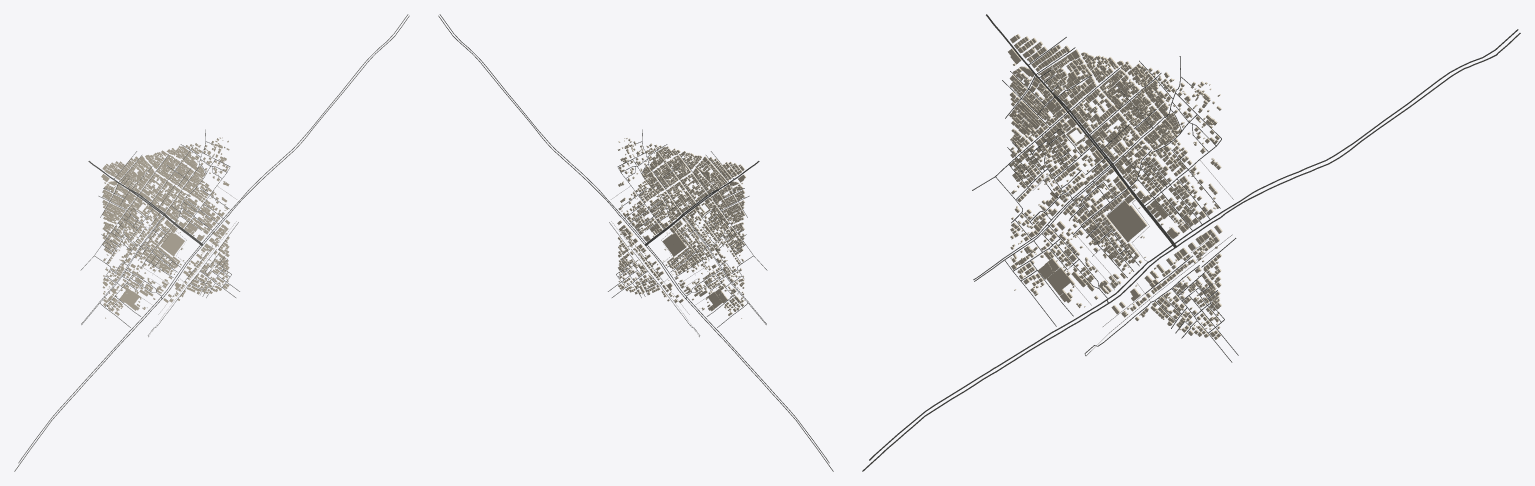
Rendered from historic-palestine-02_20_3439_3144.glb.
3 views of the same model, side by side, from view 1: azimuth 30°, elevation 25°; view 2: azimuth 150°, elevation 25°; view 3: azimuth 330°, elevation 25° (orthographic). The views are drawn at different scales.
Parts seen in each view (by area): view 1: Road صلاح الدين, Road صلاح الدين.001; view 2: Road صلاح الدين, Road صلاح الدين.001; view 3: Road صلاح الدين, Road صلاح الدين.001, Building_.106.
Boxes of the visible parts, box(x1,y1,x2,y2) form: Road صلاح الدين: box(14, 15, 409, 471); Road صلاح الدين.001: box(18, 14, 408, 463); Road صلاح الدين: box(438, 15, 833, 471); Road صلاح الدين.001: box(439, 14, 829, 463); Road صلاح الدين: box(862, 33, 1520, 471); Road صلاح الدين.001: box(869, 29, 1518, 460); Building_.106: box(1106, 200, 1147, 242).
Size of the model in its own units: 3008 by 2630 by 32.2.
